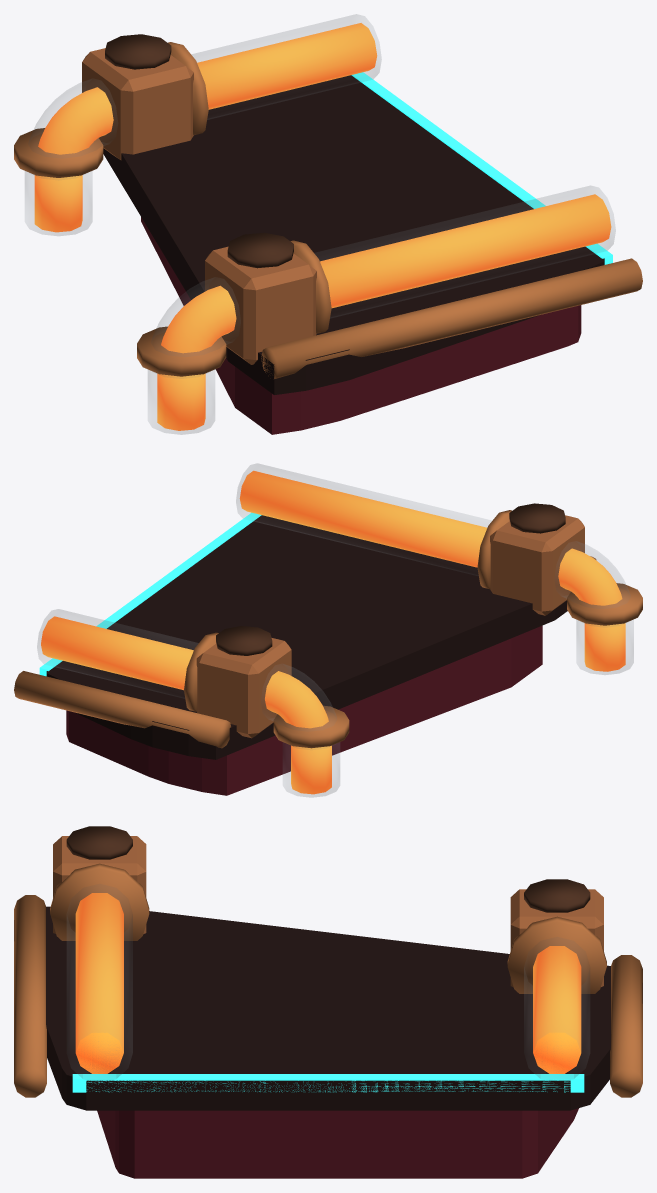
Rendered from Pier_Angled_15.glb.
3 renders of one model, top to bottom at view 1: azimuth 30°, elevation 25°; view 2: azimuth 150°, elevation 25°; view 3: azimuth 270°, elevation 25°, orthographic. The views are drawn at different scales.
Visible parts, largest first — view 1: CP_Pier_Angled_15; view 2: CP_Pier_Angled_15; view 3: CP_Pier_Angled_15.
Part boxes in pixels (x1,y1,x2,y2): CP_Pier_Angled_15: [14, 14, 642, 434]; CP_Pier_Angled_15: [14, 463, 642, 797]; CP_Pier_Angled_15: [14, 826, 642, 1178].
Size of the model in its own units: 3.42 by 1.31 by 4.18.
